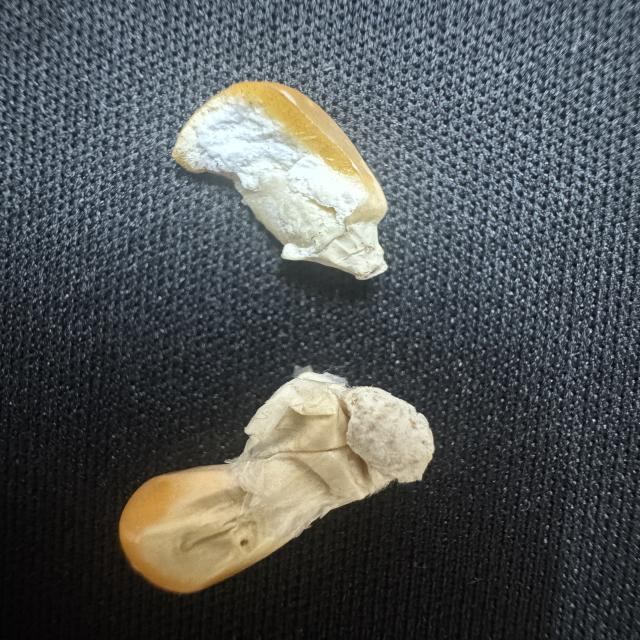Bad-Seed: (112, 360, 440, 598), (162, 74, 400, 288)
